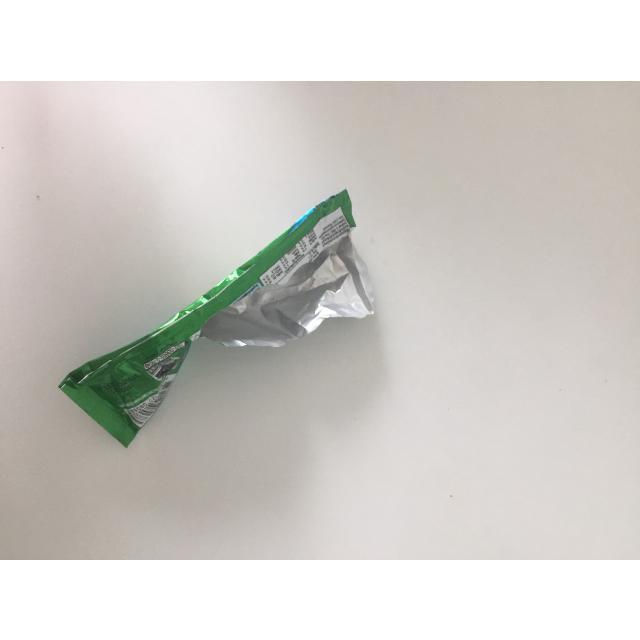Paquete de plastico: (62, 188, 374, 445)
